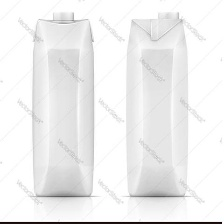carton: (29, 11, 100, 199), (123, 10, 191, 197)
